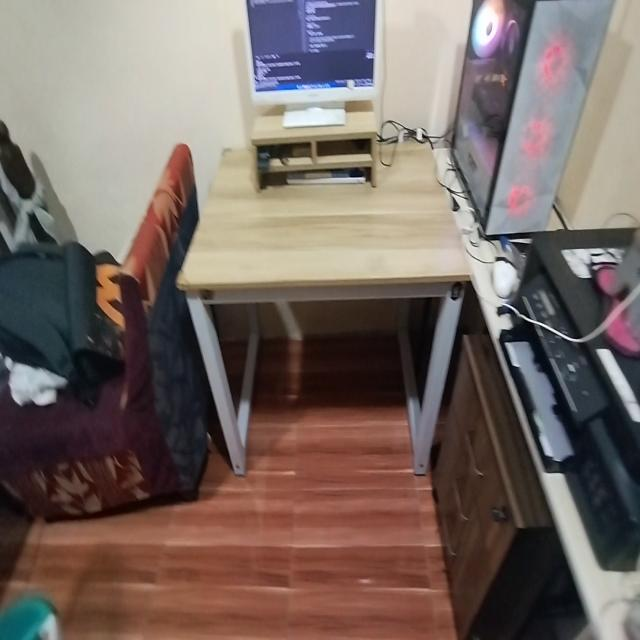table: (179, 129, 470, 482)
